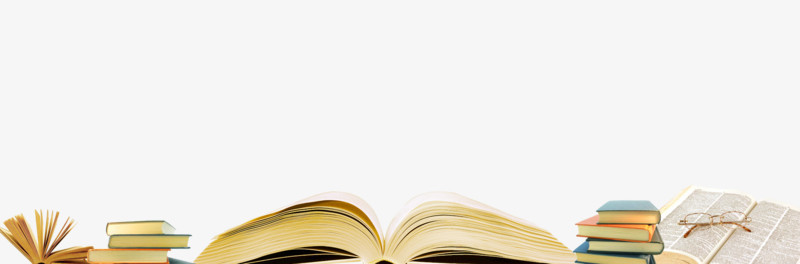book: (195, 183, 576, 264), (668, 181, 800, 264), (4, 197, 95, 263), (588, 191, 664, 224), (108, 210, 184, 239)
